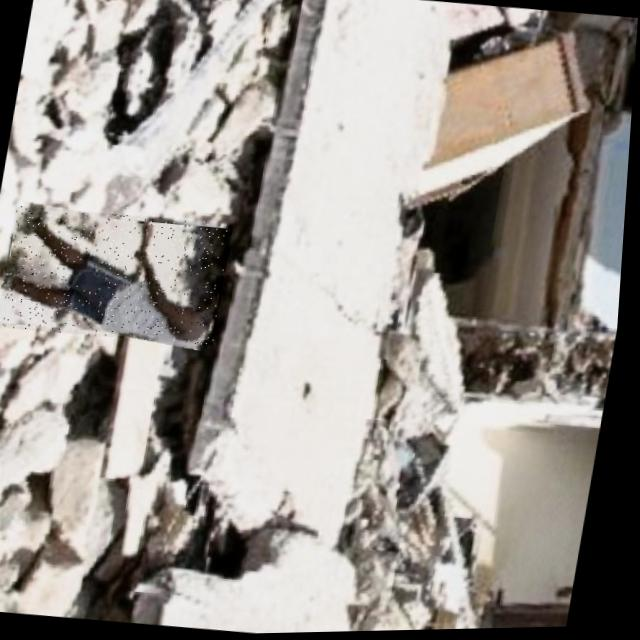Person in Rubble: (0, 202, 237, 350)
